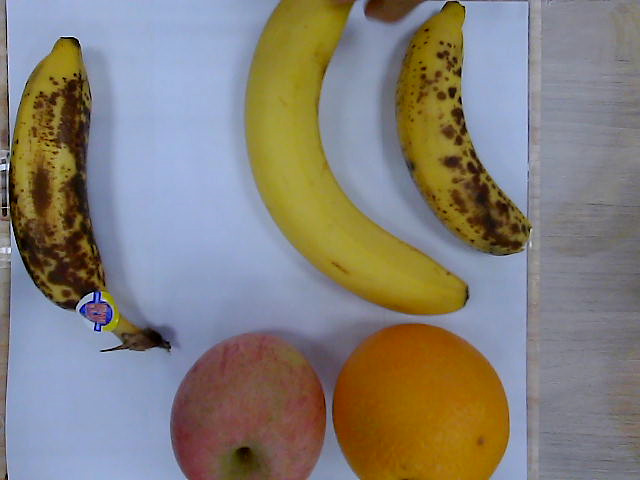fresh_apple: (171, 330, 325, 480)
fresh_banana: (246, 2, 471, 317)
fresh_orange: (333, 323, 512, 480)
rotten_banana: (8, 38, 168, 354), (397, 1, 536, 256)
